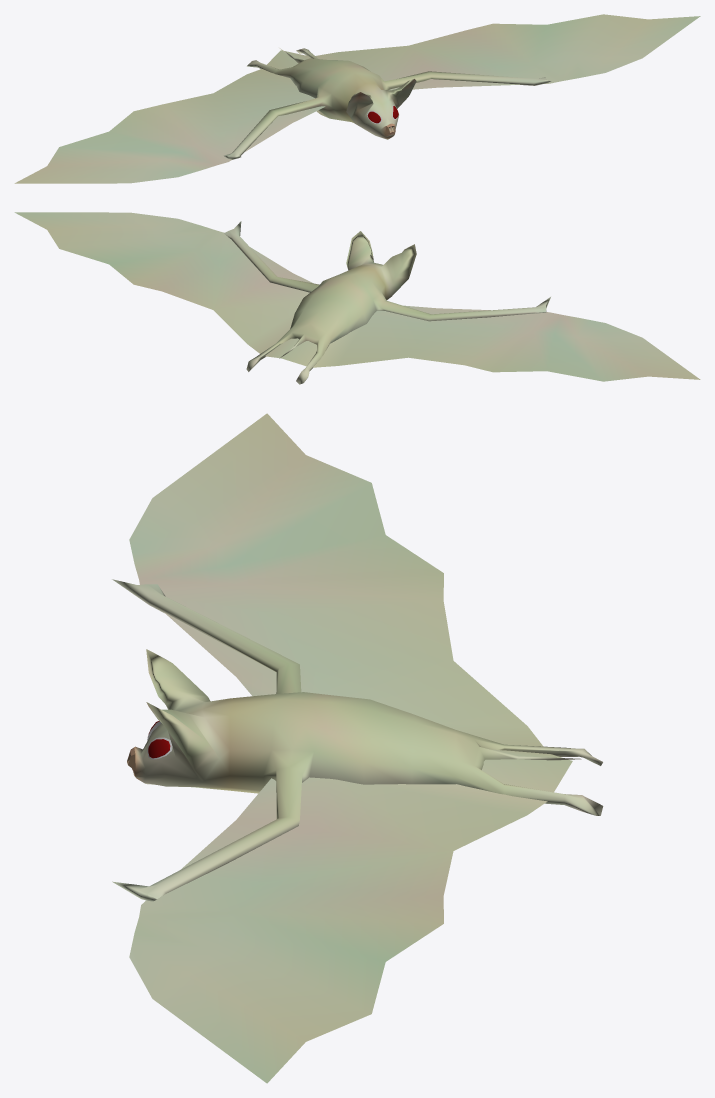
File: Imaginary_Batto.fbx
3 views of the same model, one above another, from view 1: azimuth 30°, elevation 25°; view 2: azimuth 150°, elevation 25°; view 3: azimuth 270°, elevation 25° (orthographic). The views are drawn at different scales.
Parts seen in each view (by area): view 1: base; view 2: base; view 3: base.
Part boxes in pixels (box(x1,y1,x2,y2)): base: box(14, 14, 700, 183); base: box(14, 212, 700, 384); base: box(112, 413, 603, 1083).
Size of the model in its own units: 144 by 13.18 by 44.66.
